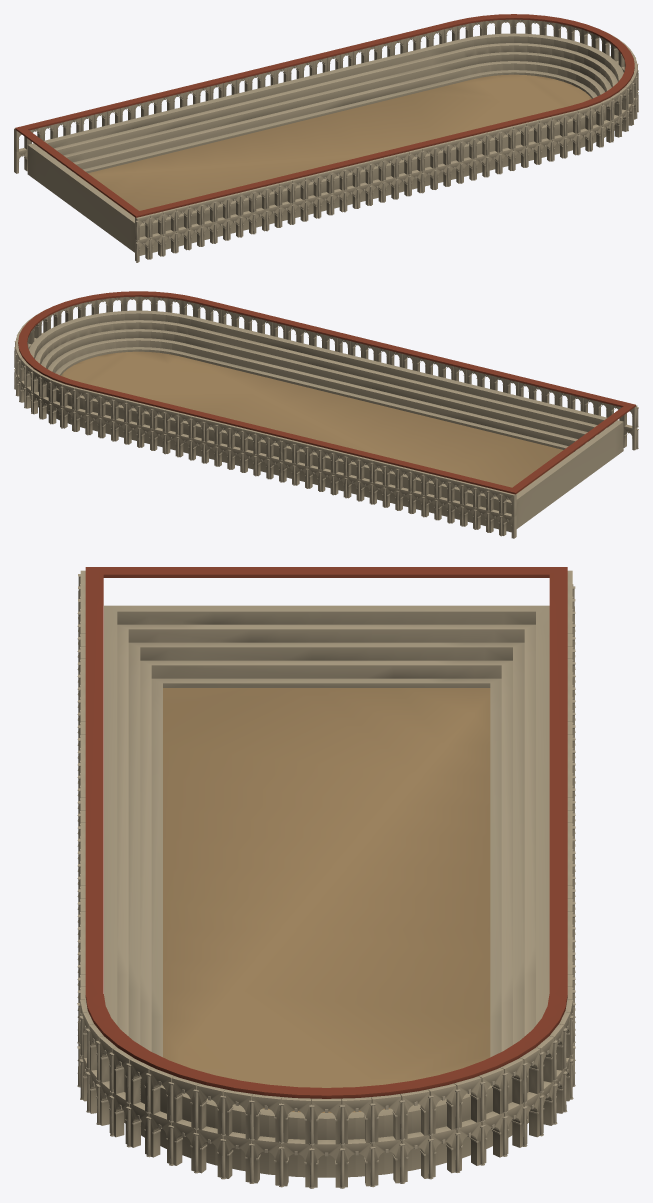
Rendered from stadium-of-domitian.glb.
The picture shows the model from 3 angles, top to bottom: view 1: azimuth 30°, elevation 25°; view 2: azimuth 150°, elevation 25°; view 3: azimuth 270°, elevation 25°; orthographic projection. The views are drawn at different scales.
Visible parts, largest first — view 1: p0_track, p1_facade, p2_roof; view 2: p0_track, p1_facade, p2_roof; view 3: p0_track, p1_facade, p2_roof.
Boxes of the visible parts, x1,y1,x2,y2 form: p0_track: (27, 33, 623, 255); p1_facade: (14, 19, 638, 262); p2_roof: (15, 14, 634, 217); p0_track: (29, 310, 623, 532); p1_facade: (14, 296, 638, 538); p2_roof: (18, 291, 635, 494); p0_track: (104, 605, 549, 1177); p1_facade: (77, 570, 575, 1188); p2_roof: (85, 567, 567, 1098).
Bounding box in the file's own units: 277 × 21.81 × 110.
